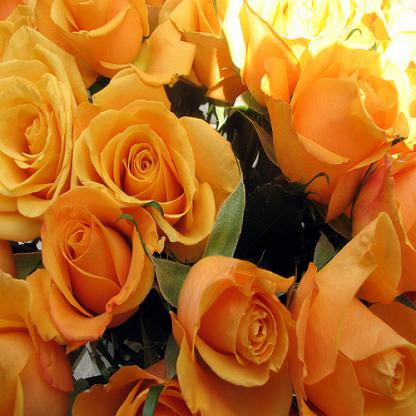ROSE-MAWAR: (3, 4, 410, 412)
